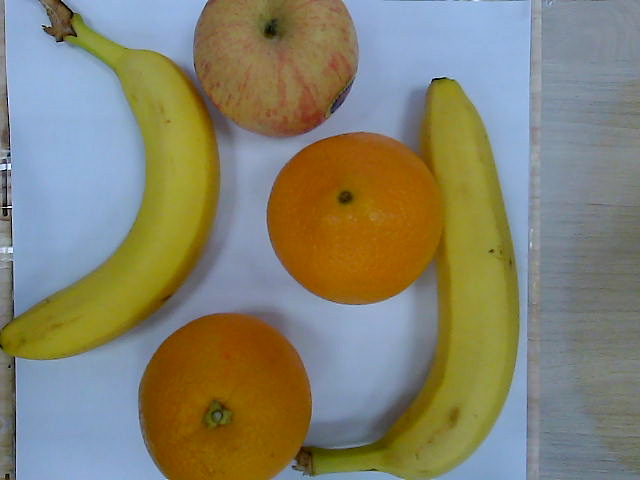fresh_apple: (192, 1, 360, 139)
fresh_banana: (378, 79, 519, 480)
fresh_orange: (268, 132, 439, 305), (138, 316, 312, 480)
rotten_banana: (3, 1, 221, 361)
